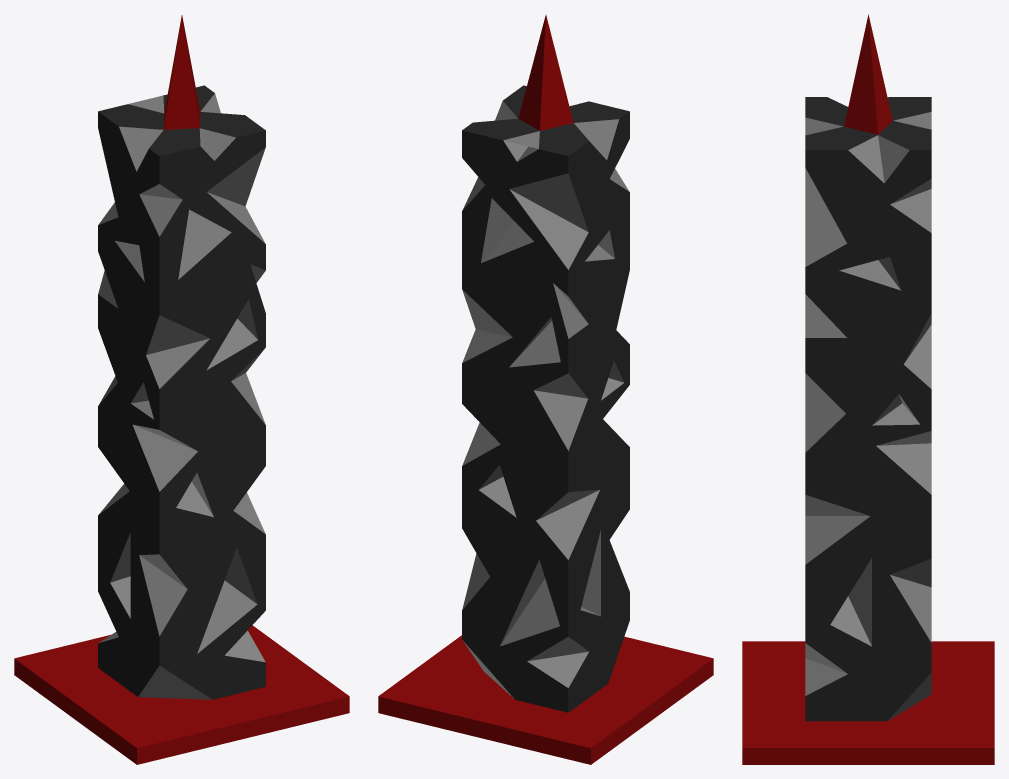
The picture shows the model from 3 angles, left to right: view 1: azimuth 30°, elevation 25°; view 2: azimuth 150°, elevation 25°; view 3: azimuth 270°, elevation 25°; orthographic projection. The views are drawn at different scales.
Parts seen in each view (by area): view 1: Group2, Group1, Group3; view 2: Group2, Group1, Group3; view 3: Group2, Group1, Group3.
Part boxes in pixels (x1,y1,x2,y2): Group2: (98, 85, 265, 699); Group1: (14, 625, 349, 764); Group3: (163, 15, 200, 129); Group2: (462, 85, 629, 712); Group1: (378, 635, 713, 764); Group3: (518, 15, 573, 130); Group2: (805, 97, 931, 721); Group1: (742, 641, 994, 764); Group3: (844, 14, 892, 134).
Bounding box in the file's own units: 2 × 6.11 × 2.
